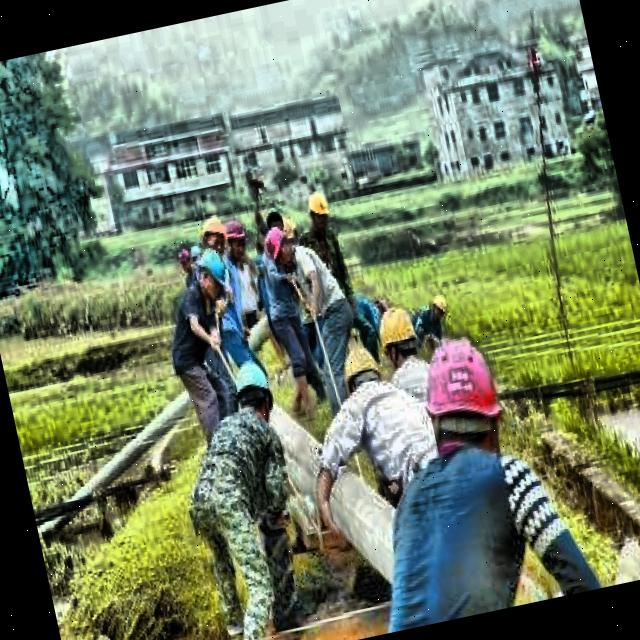helmet: (406, 324, 514, 473), (228, 353, 282, 430), (331, 333, 386, 408), (373, 301, 422, 379), (190, 242, 232, 300), (260, 218, 300, 269), (194, 208, 228, 258), (221, 211, 253, 263), (303, 188, 335, 234), (424, 288, 453, 326)
